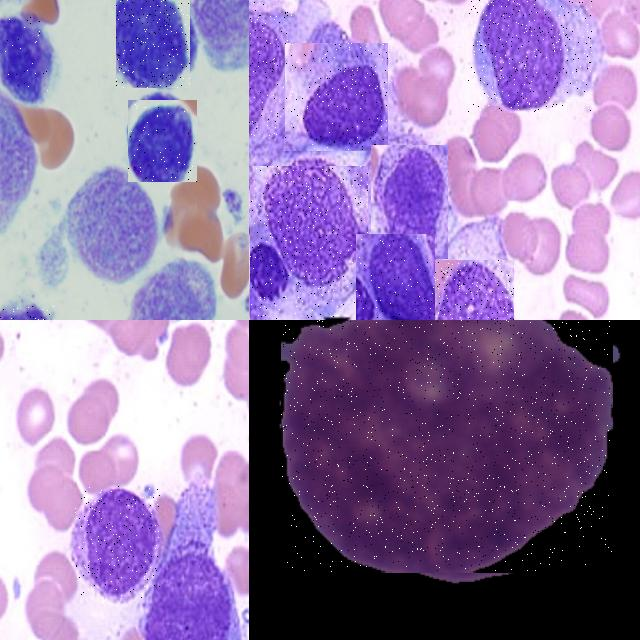ALL Positive Cell: (281, 320, 613, 572), (249, 166, 368, 320), (141, 479, 227, 640), (468, 0, 592, 111), (284, 44, 388, 152), (75, 486, 161, 598), (371, 145, 448, 259), (354, 234, 434, 320), (115, 0, 190, 88), (249, 2, 296, 137), (128, 100, 197, 182), (424, 259, 514, 320), (0, 17, 50, 93)
